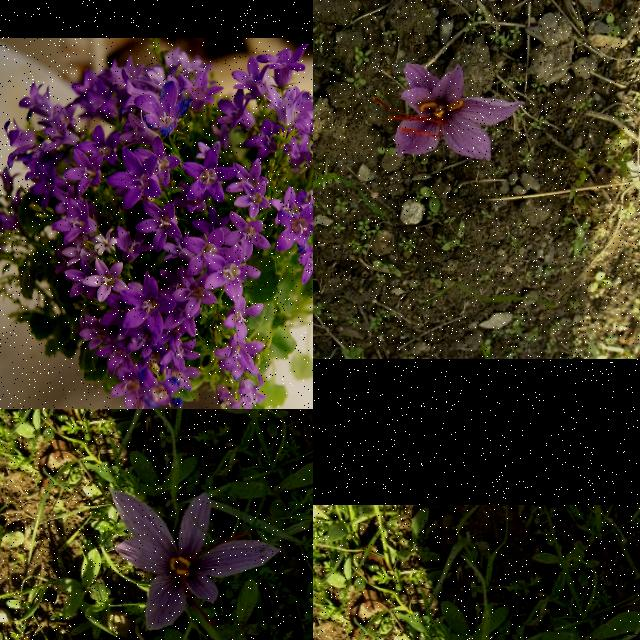flower: (110, 490, 280, 630), (372, 63, 524, 163)
